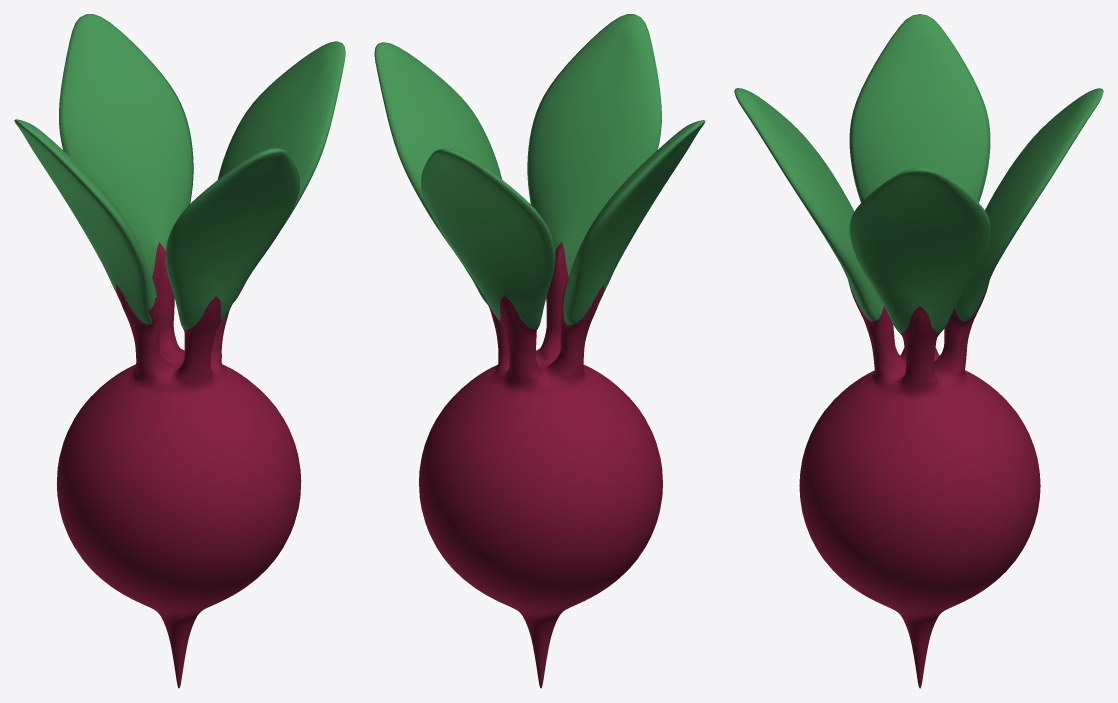
Rendered from Beet.FBX.
3 renders of one model, left to right at view 1: azimuth 30°, elevation 25°; view 2: azimuth 150°, elevation 25°; view 3: azimuth 270°, elevation 25°, orthographic.
Visible parts, largest first — view 1: Beet_highpoly001; view 2: Beet_highpoly001; view 3: Beet_highpoly001.
Part boxes in pixels (left/top/right/bottom): Beet_highpoly001: left=14, top=14, right=345, bottom=688; Beet_highpoly001: left=374, top=14, right=705, bottom=688; Beet_highpoly001: left=734, top=14, right=1103, bottom=688.
Size of the model in its own units: 36.9 by 66.03 by 36.92.
